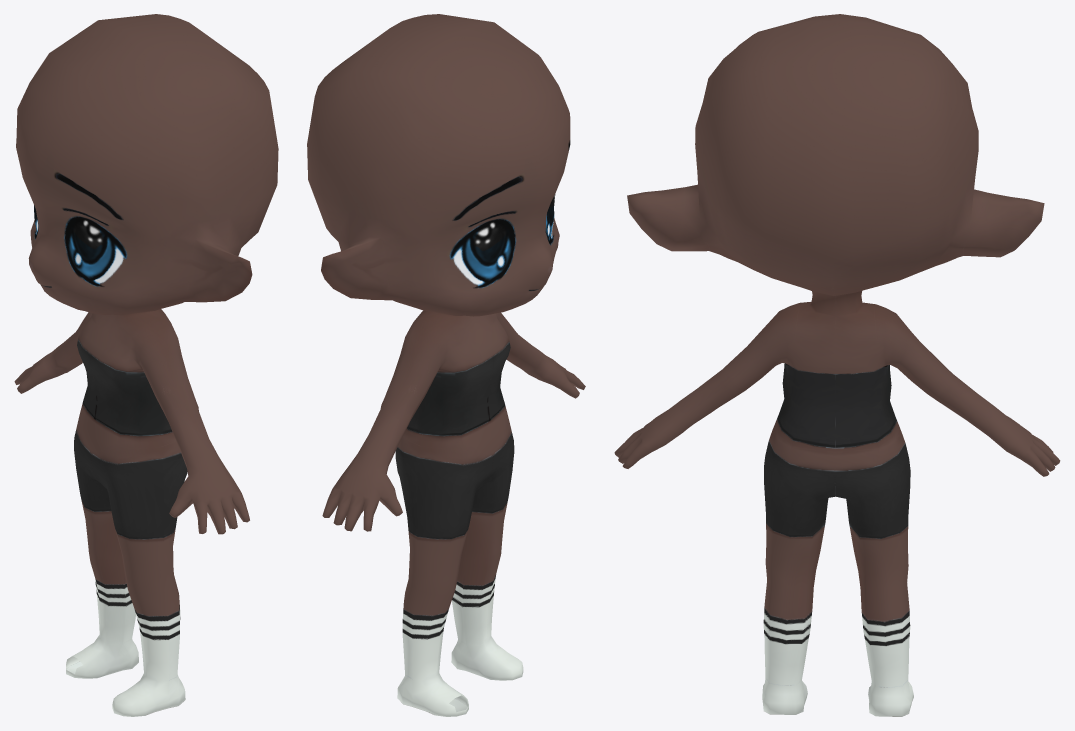
File: miilady_body_darkblue.gltf
3 renders of one model, left to right at view 1: azimuth 30°, elevation 25°; view 2: azimuth 150°, elevation 25°; view 3: azimuth 270°, elevation 25°, orthographic. The views are drawn at different scales.
Visible parts, largest first — view 1: Milady_model.001; view 2: Milady_model.001; view 3: Milady_model.001.
Part boxes in pixels (x1,y1,x2,y2): Milady_model.001: (14, 14, 278, 716); Milady_model.001: (307, 14, 585, 716); Milady_model.001: (614, 14, 1060, 716).
Bounding box in the file's own units: 0.5614 × 1.52 × 0.8957.
Materials: 1 (1 with a texture image).
